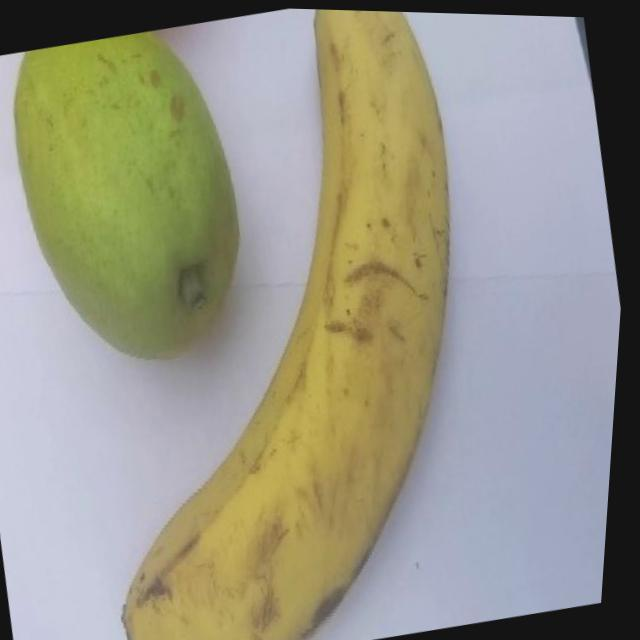Banana: (17, 1, 546, 640)
